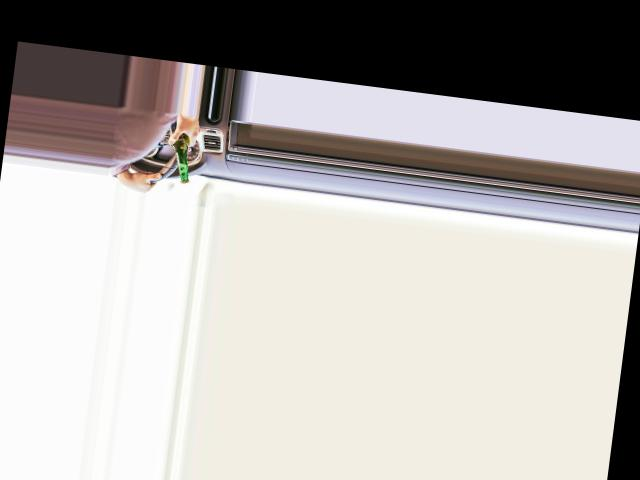beer: (162, 118, 197, 184)
